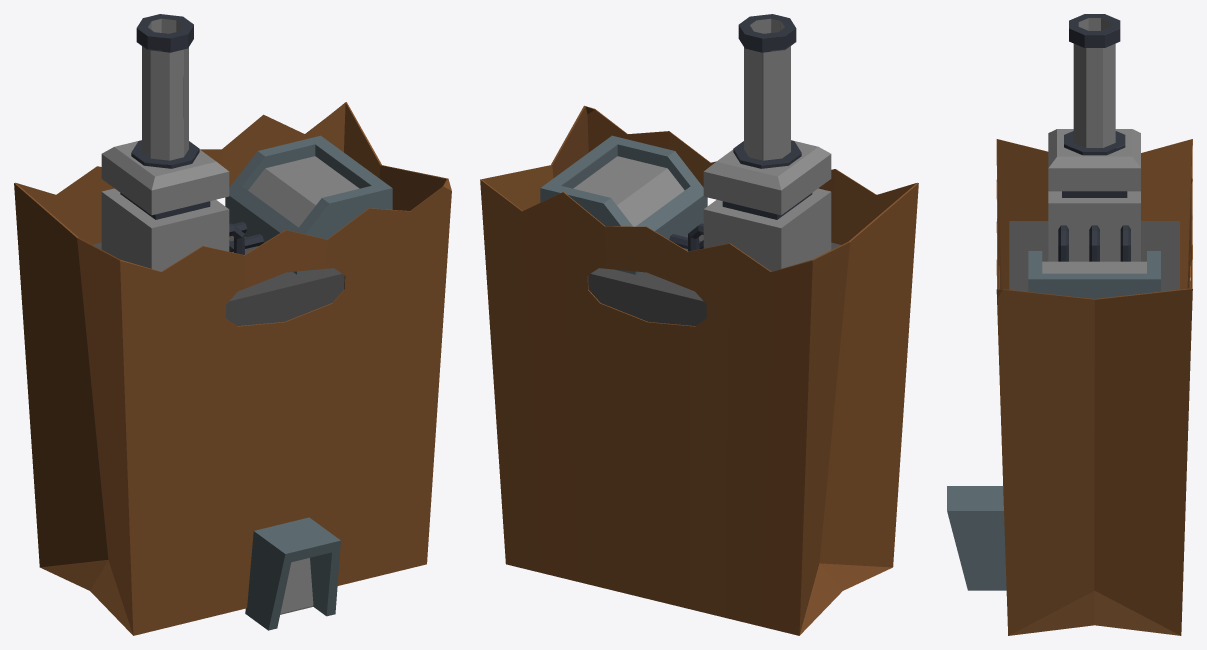
The model's file is pianyi.fbx.
The picture shows the model from 3 angles, left to right: view 1: azimuth 30°, elevation 25°; view 2: azimuth 150°, elevation 25°; view 3: azimuth 270°, elevation 25°; orthographic projection. The views are drawn at different scales.
Visible parts, largest first — view 1: 立方体.025; view 2: 立方体.025; view 3: 立方体.025.
Part boxes in pixels (box(x1,y1,x2,y2)): 立方体.025: box(14, 14, 451, 635); 立方体.025: box(480, 14, 918, 635); 立方体.025: box(947, 14, 1192, 635).
Size of the model in its own units: 226 by 365 by 156.
1 material, 1 textured.
